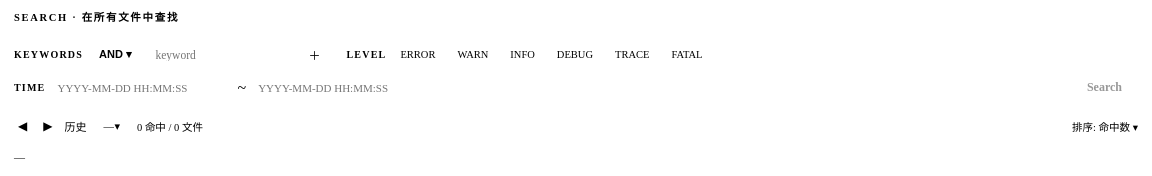
it: SearchPanel form edits › toggles the combinator between AND and OR
This screenshot has width=1152, height=176.
Click the button with aria-label "combinator". click: (115, 54)
box: [89,45,142,64]
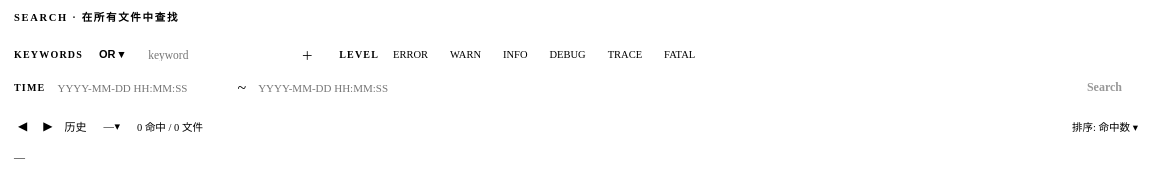
expect the button with aria-label "combinator" shows "OR": met
Click the button with aria-label "combinator". click: (112, 54)
box: [89,45,134,64]
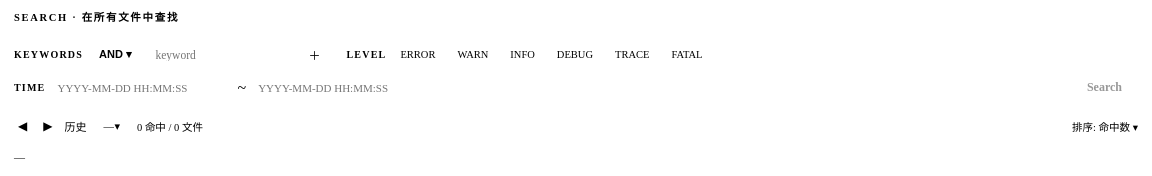
expect the button with aria-label "combinator" shows "AND": met, box [89,45,142,64]
